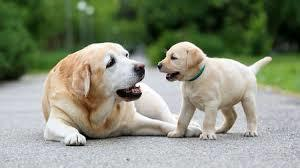dog: (39, 39, 200, 145), (156, 40, 272, 139)
